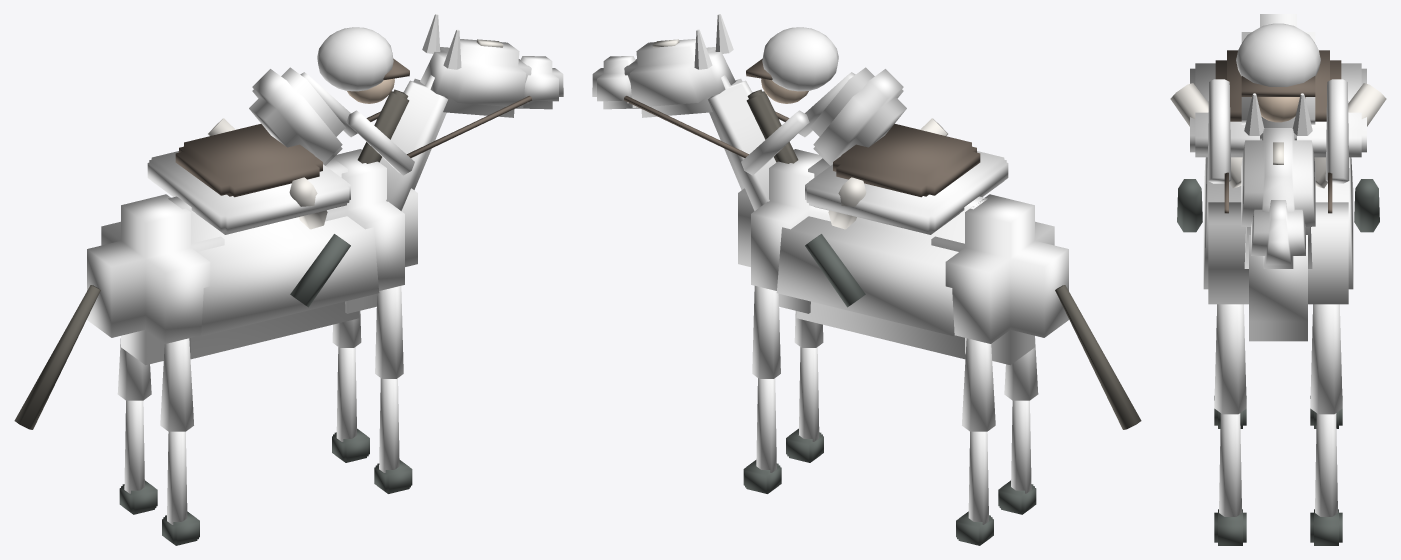
Rendered from racehorse.glb.
The picture shows the model from 3 angles, left to right: view 1: azimuth 30°, elevation 25°; view 2: azimuth 150°, elevation 25°; view 3: azimuth 270°, elevation 25°; orthographic projection. The views are drawn at different scales.
Parts seen in each view (by area): view 1: Body, HindRight, ForeRightJoint, HindLeftJoint, ForeLeftJoint, HindRightJoint, Tail, ForeRight, HindLeft, ForeLeft; view 2: Body, HindLeft, ForeLeftJoint, HindRightJoint, ForeRightJoint, HindLeftJoint, Tail, ForeLeft, HindRight, ForeRight; view 3: Body, ForeLeft, ForeRight, ForeLeftJoint, ForeRightJoint.
Boxes of the visible parts, box(x1,y1,x2,y2) form: Body: box(87, 14, 563, 365); HindRight: box(160, 338, 193, 431); ForeRightJoint: box(374, 378, 412, 493); HindLeftJoint: box(119, 400, 157, 514); ForeLeftJoint: box(332, 347, 369, 462); HindRightJoint: box(162, 431, 199, 545); Tail: box(14, 285, 100, 429); ForeRight: box(375, 286, 403, 378); HindLeft: box(117, 338, 151, 400); ForeLeft: box(332, 311, 361, 347); Body: box(592, 14, 1068, 365); HindLeft: box(962, 338, 995, 431); ForeLeftJoint: box(743, 378, 781, 493); HindRightJoint: box(998, 400, 1036, 514); ForeRightJoint: box(786, 347, 823, 462); HindLeftJoint: box(956, 431, 993, 545); Tail: box(1055, 285, 1141, 429); ForeLeft: box(752, 286, 780, 378); HindRight: box(1004, 338, 1038, 400); ForeRight: box(794, 311, 823, 347); Body: box(1170, 14, 1386, 341); ForeLeft: box(1310, 304, 1342, 414); ForeRight: box(1214, 304, 1246, 414); ForeLeftJoint: box(1310, 413, 1342, 545); ForeRightJoint: box(1214, 413, 1246, 545).
Size of the model in its own units: 1.92 by 1.5 by 0.5862.
